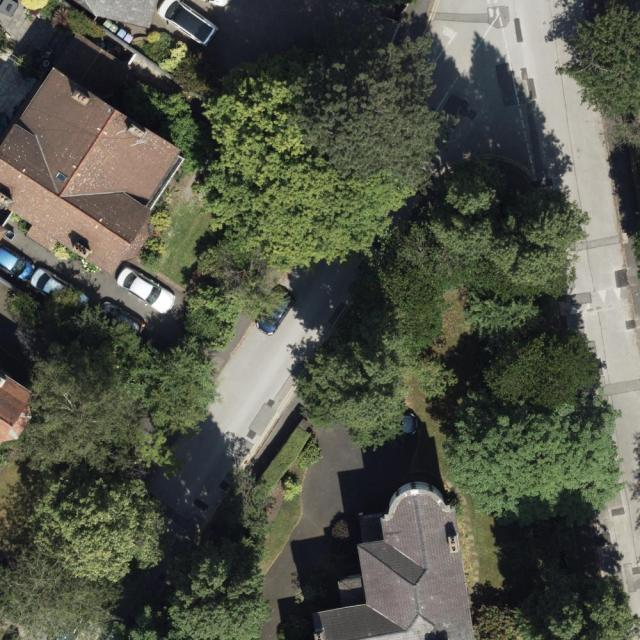roof: (0, 70, 187, 279), (310, 489, 477, 640), (2, 371, 35, 440), (83, 0, 158, 29)
